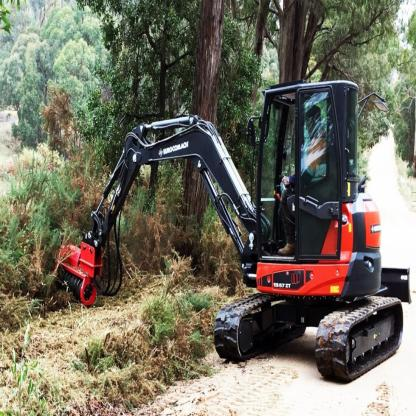excavator: (52, 59, 407, 394)
